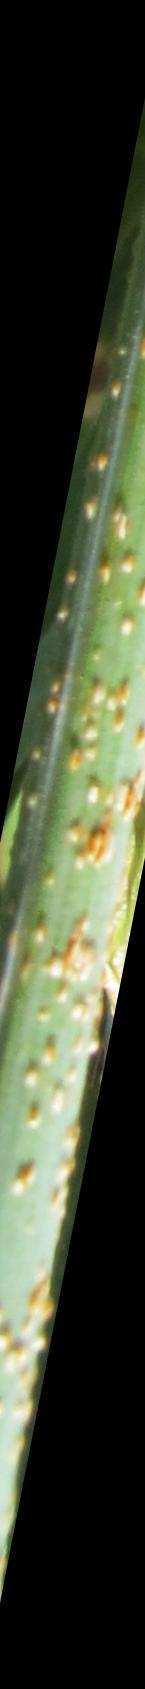Wheat: (0, 335, 145, 1135)
